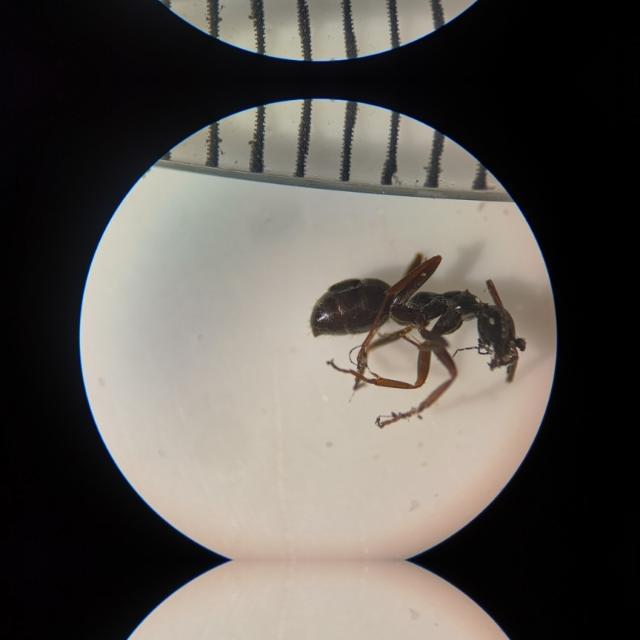Formica: (310, 245, 558, 407)
